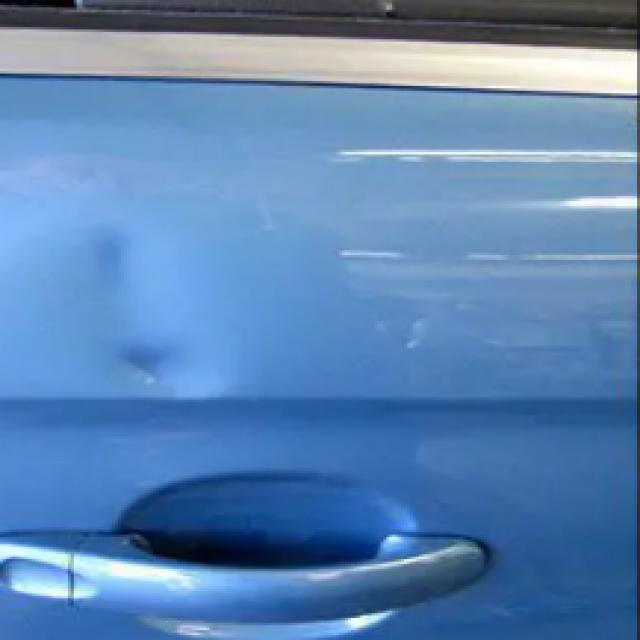dents: (63, 197, 248, 427)
